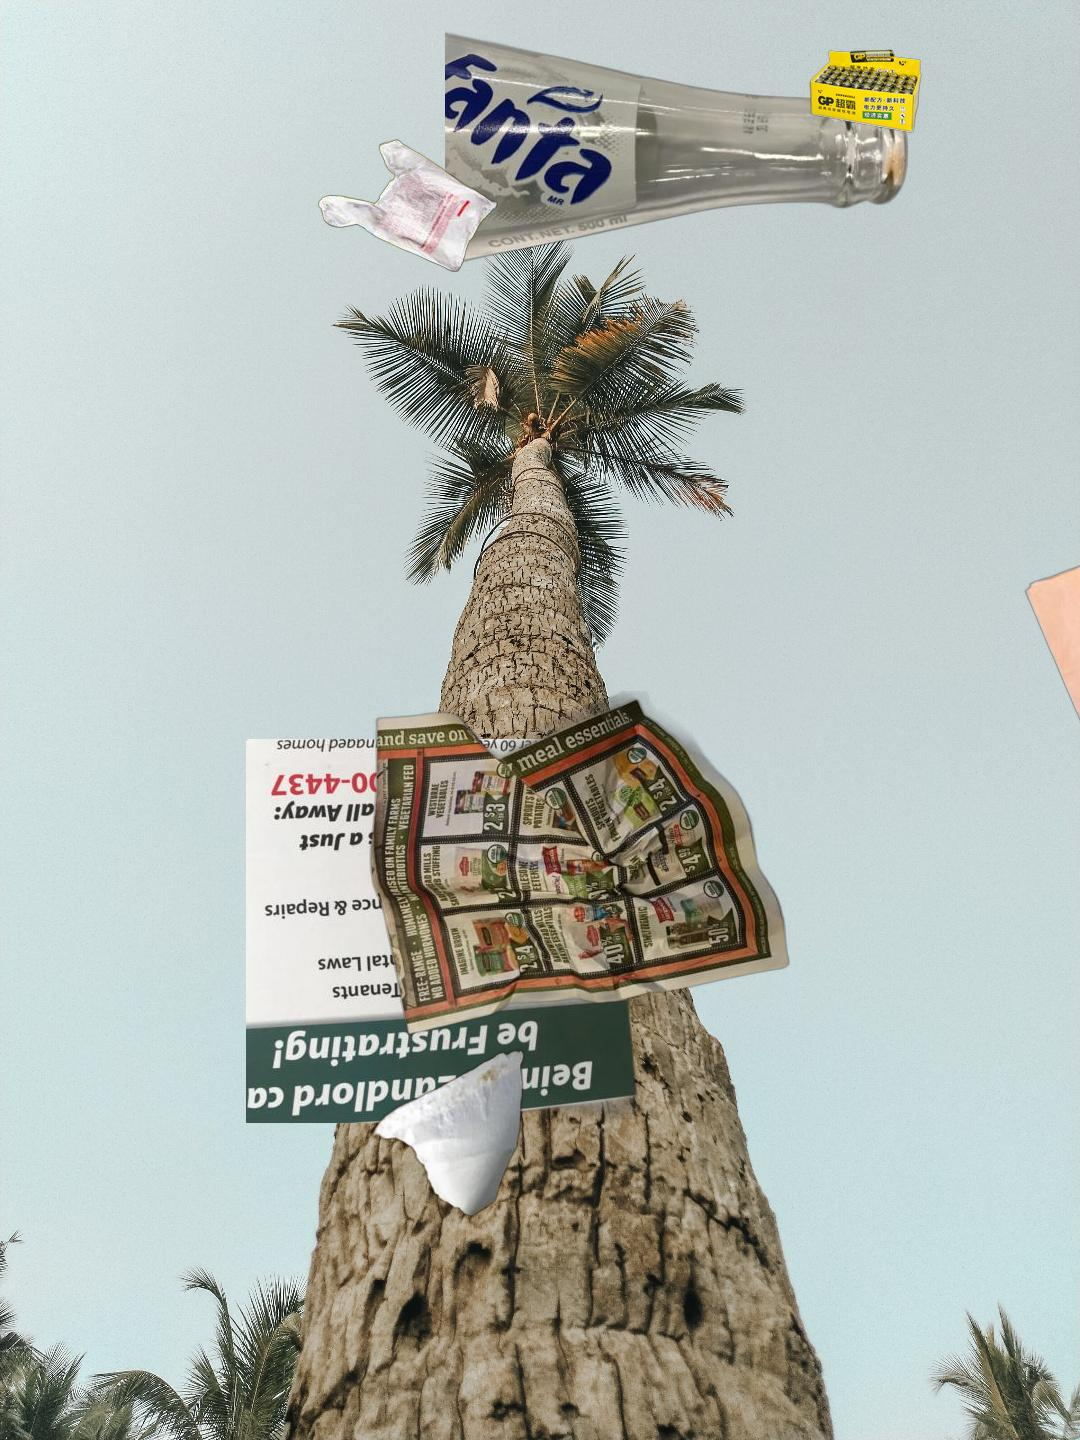battery: (807, 46, 923, 135)
glass: (445, 28, 911, 268)
paper: (246, 739, 641, 1123), (366, 691, 794, 1037)
paper-bag: (1022, 535, 1080, 752)
plastic-bag: (317, 137, 500, 276)
trashbox-cardboard: (368, 1047, 557, 1220)
